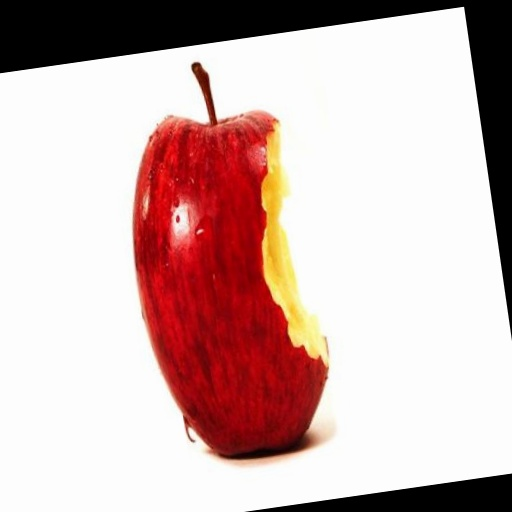fruit: (133, 63, 328, 455)
